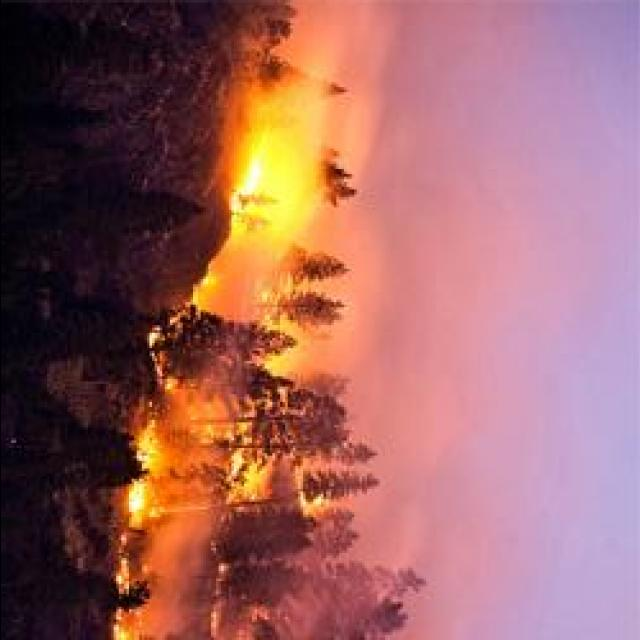fire: (236, 145, 319, 214), (130, 428, 162, 518), (227, 152, 267, 215), (122, 478, 154, 524)
smoke: (282, 332, 384, 379), (303, 0, 381, 61), (212, 240, 276, 306), (154, 519, 202, 573)
